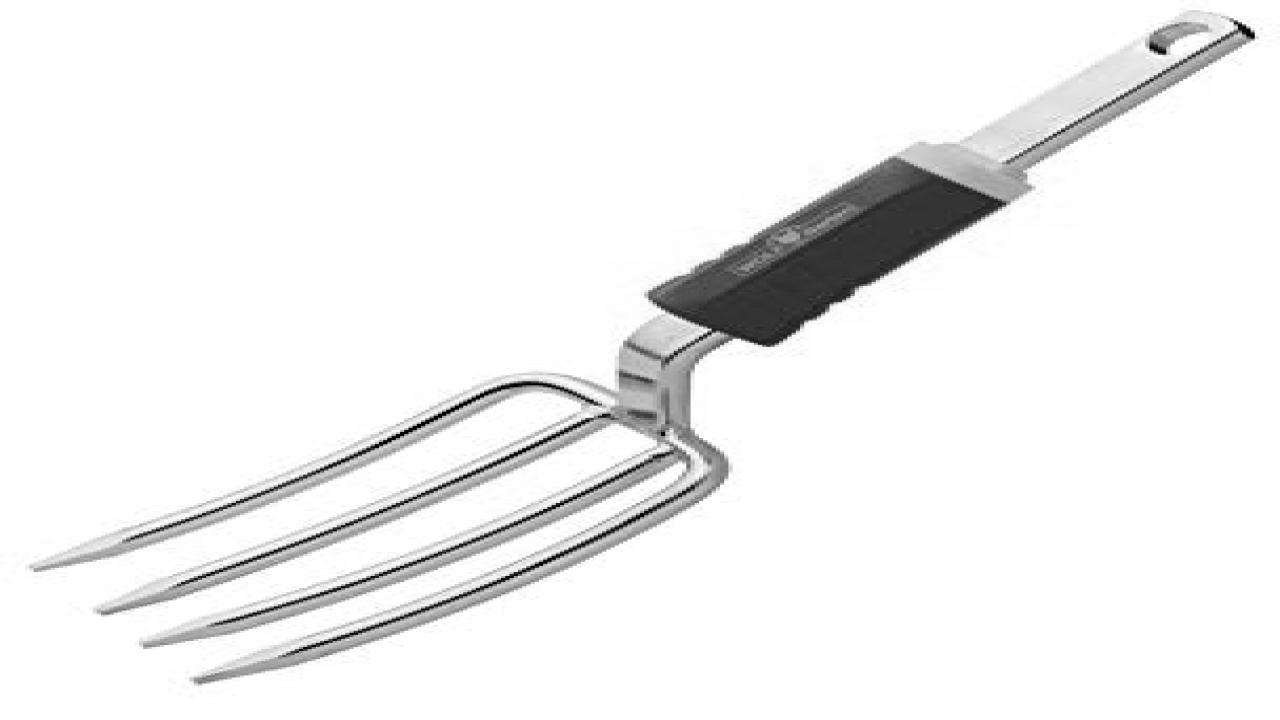fork: (25, 6, 1255, 684)
